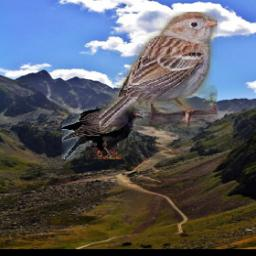Crow: (63, 105, 146, 160)
Sparrow: (100, 12, 218, 131)
